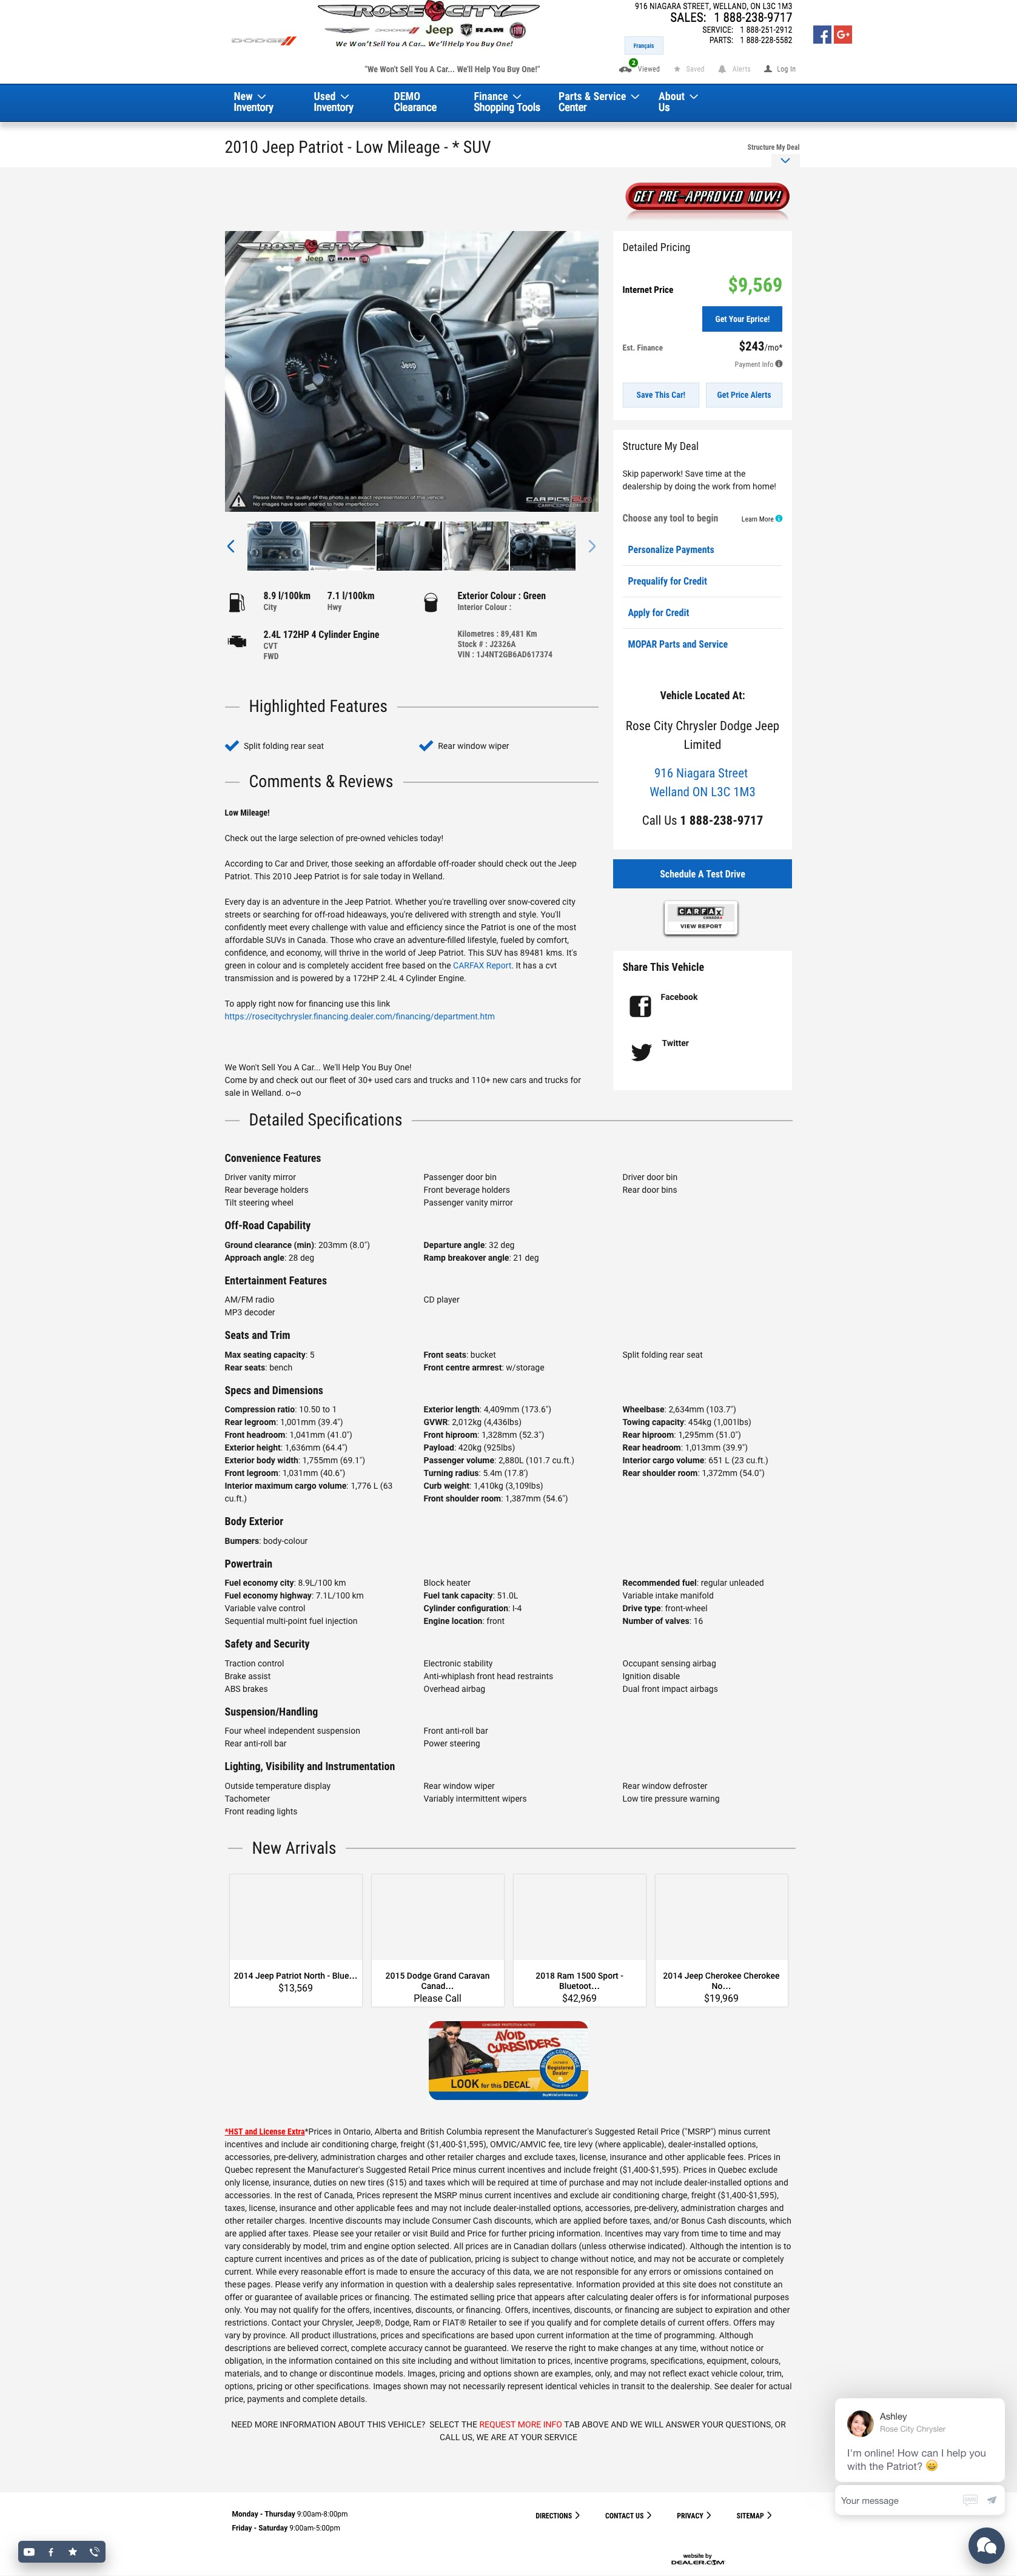car: (588, 539, 598, 554)
